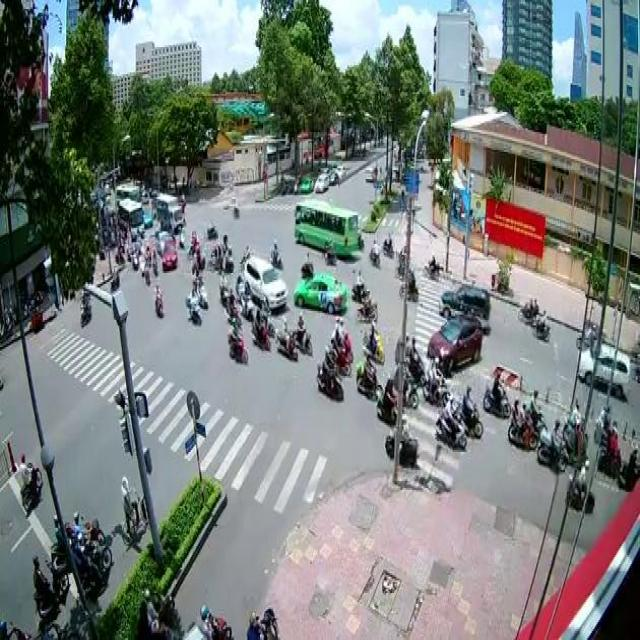bicycle: (120, 474, 150, 544)
bus: (292, 199, 358, 253)
car: (426, 315, 481, 374), (575, 342, 630, 399), (243, 253, 285, 313), (440, 280, 491, 329), (292, 273, 348, 311), (162, 237, 176, 273)
motorcycle: (31, 550, 68, 616), (74, 530, 111, 596), (536, 416, 567, 475), (434, 394, 467, 448), (566, 456, 594, 514), (507, 396, 537, 450), (315, 342, 343, 399), (17, 452, 42, 513), (422, 354, 451, 405), (482, 370, 511, 420), (458, 382, 483, 439), (376, 378, 406, 425), (329, 314, 355, 362), (355, 354, 382, 400), (360, 320, 384, 365), (225, 316, 247, 364), (275, 314, 297, 362), (523, 384, 547, 428), (292, 311, 314, 356), (355, 284, 379, 322), (252, 306, 270, 352), (398, 264, 419, 302), (348, 268, 369, 304), (515, 294, 538, 324), (191, 272, 208, 308), (532, 305, 549, 340), (419, 252, 440, 280), (185, 288, 201, 324), (78, 295, 92, 329), (270, 237, 284, 269), (299, 252, 315, 280), (323, 237, 337, 264), (152, 280, 162, 316), (369, 235, 380, 266), (382, 230, 393, 258)
truck: (154, 190, 181, 231)
